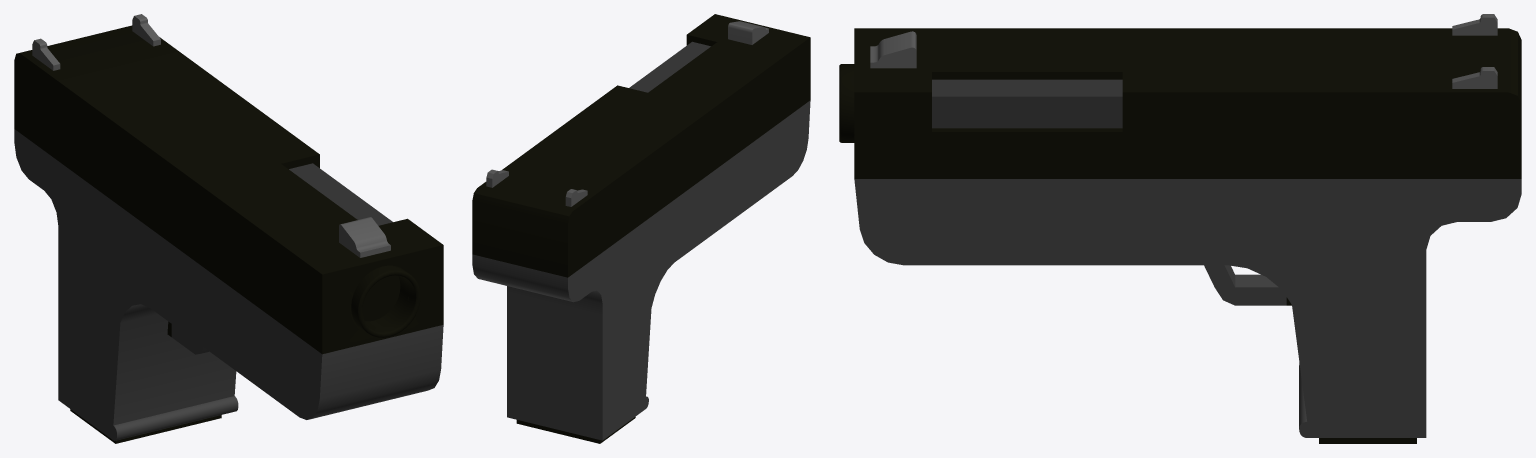
The model's file is gun.fbx.
3 renders of one model, left to right at view 1: azimuth 30°, elevation 25°; view 2: azimuth 150°, elevation 25°; view 3: azimuth 270°, elevation 25°, orthographic. The views are drawn at different scales.
Parts seen in each view (by area): view 1: Cube.001; view 2: Cube.001; view 3: Cube.001.
Part boxes in pixels (box(x1,y1,x2,y2)): Cube.001: box(14, 14, 443, 443); Cube.001: box(472, 14, 810, 443); Cube.001: box(839, 14, 1521, 443).
Bounding box in the file's own units: 47.74 × 131 × 215.
